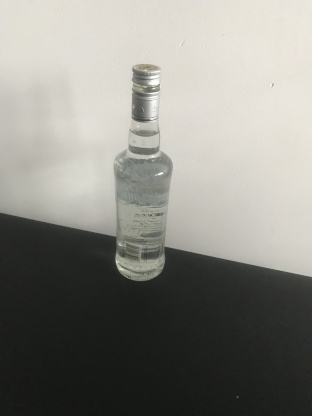nakretka: (130, 62, 162, 123)
